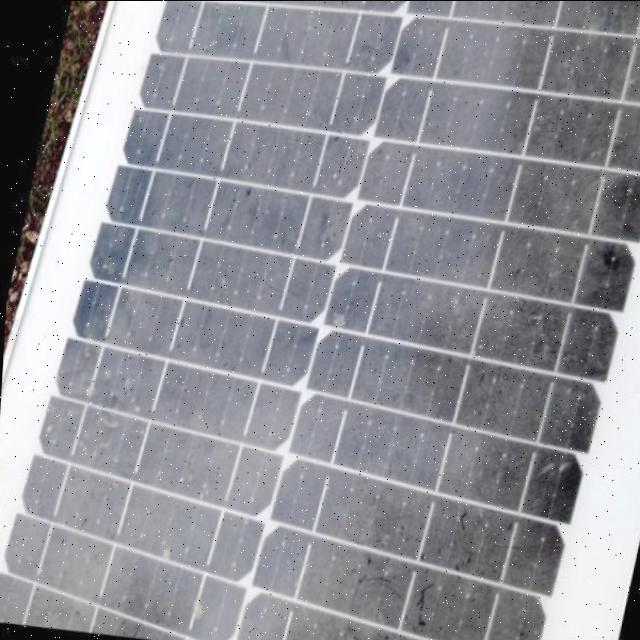Anomaly Solar Panel: (11, 0, 640, 640)
Surface Contaminant: (14, 0, 640, 640)
